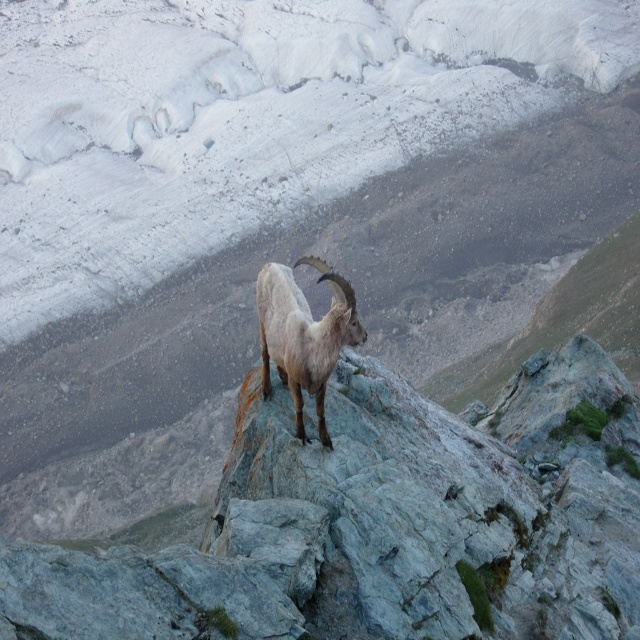Goat: (257, 257, 369, 450)
